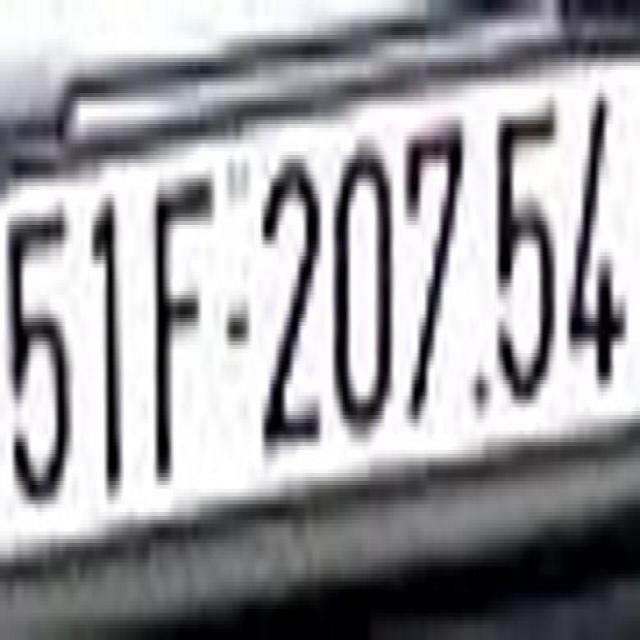0: (329, 136, 392, 434)
1: (88, 182, 125, 481)
2: (256, 155, 322, 454)
4: (568, 81, 628, 388)
5: (494, 93, 557, 415), (7, 198, 73, 500)
7: (402, 120, 465, 427)
F: (148, 163, 216, 485)
